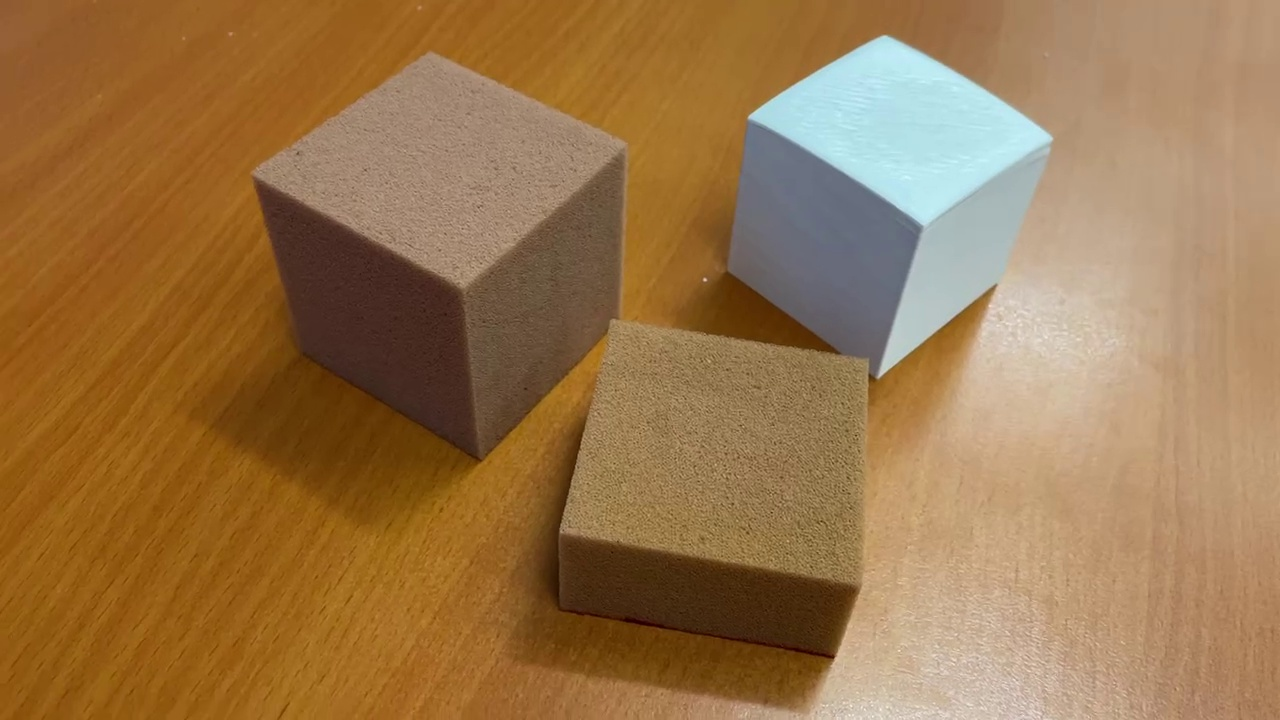Cube: (244, 46, 634, 464), (712, 26, 1058, 383)
Cube_short: (547, 310, 877, 674)
